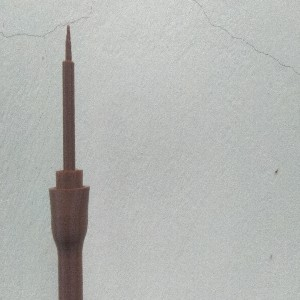solder: (48, 24, 91, 300)
